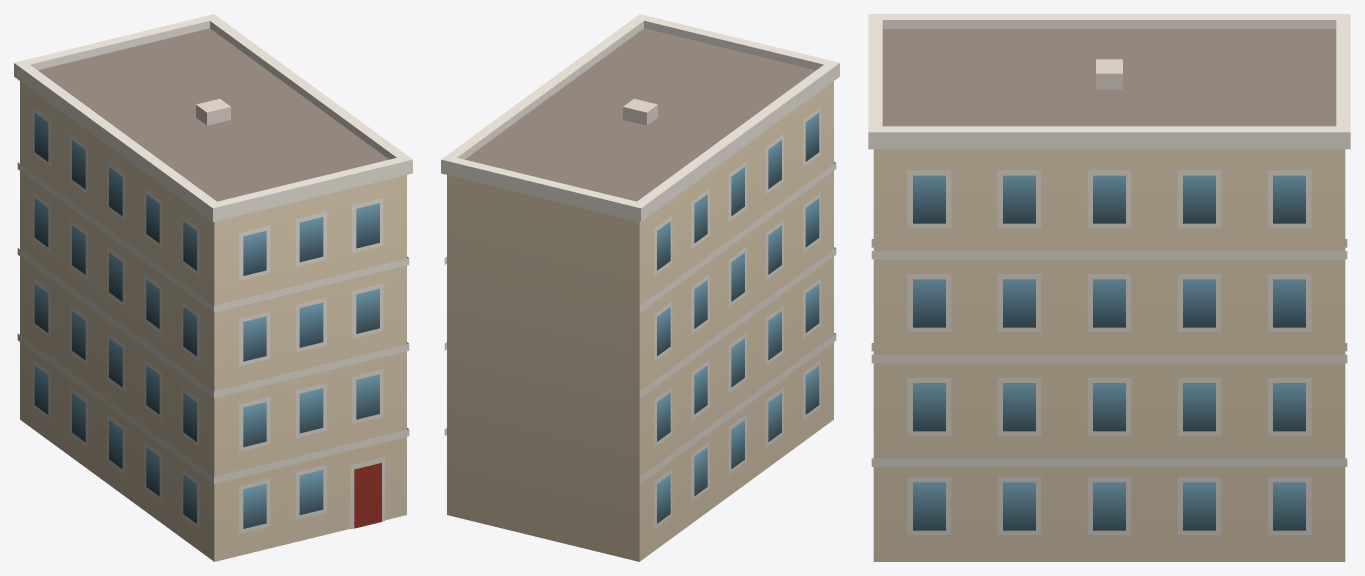
The model's file is boylston_s1_far.glb.
3 renders of one model, left to right at view 1: azimuth 30°, elevation 25°; view 2: azimuth 150°, elevation 25°; view 3: azimuth 270°, elevation 25°, orthographic. The views are drawn at different scales.
Parts seen in each view (by area): view 1: boylston_s1_far; view 2: boylston_s1_far; view 3: boylston_s1_far.
Part boxes in pixels (x1,y1,x2,y2): boylston_s1_far: [14, 14, 412, 561]; boylston_s1_far: [441, 14, 839, 561]; boylston_s1_far: [868, 14, 1350, 561].
Size of the model in its own units: 8.32 by 14.37 by 14.32.
Materials: 1 (1 with a texture image).
